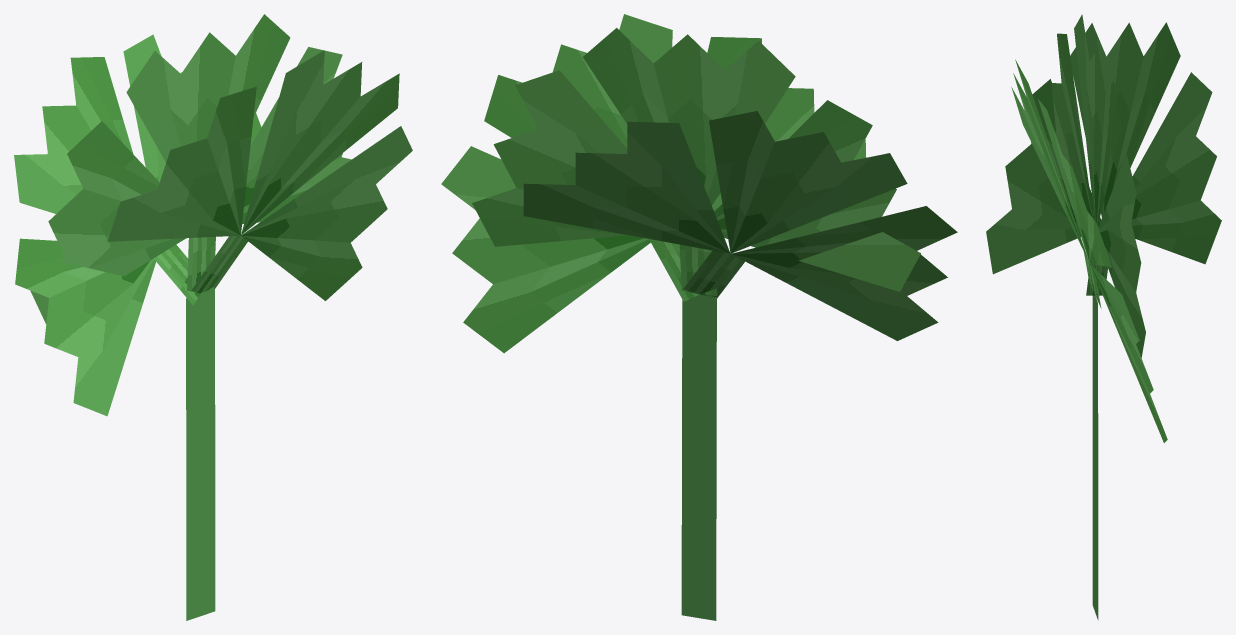
File: parsley-optimized.glb
3 views of the same model, side by side, from view 1: azimuth 30°, elevation 25°; view 2: azimuth 150°, elevation 25°; view 3: azimuth 270°, elevation 25° (orthographic).
Parts seen in each view (by area): view 1: plane; view 2: plane; view 3: plane.
Boxes of the visible parts, x1,y1,x2,y2 form: plane: (14, 14, 412, 620); plane: (441, 14, 957, 620); plane: (986, 14, 1221, 620).
Bounding box in the file's own units: 0.5655 × 0.6906 × 0.2572.
Materials: 1 (1 with a texture image).
